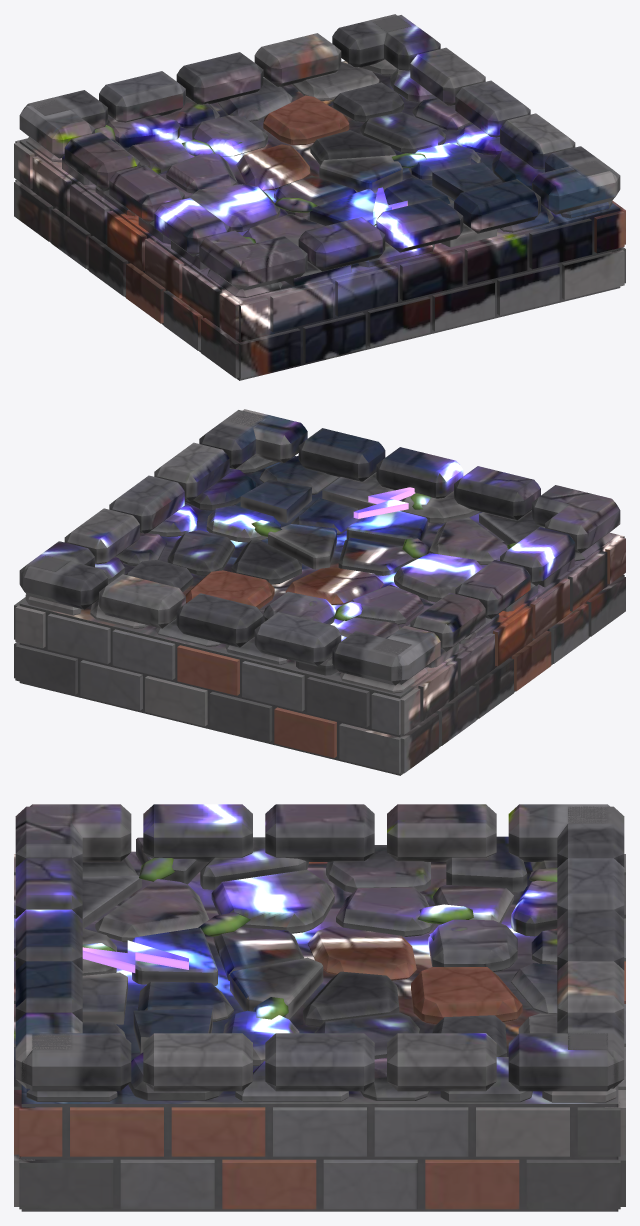
The model's file is thunder_plate.glb.
The picture shows the model from 3 angles, top to bottom: view 1: azimuth 30°, elevation 25°; view 2: azimuth 150°, elevation 25°; view 3: azimuth 270°, elevation 25°; orthographic projection. The views are drawn at different scales.
Parts seen in each view (by area): view 1: thunder_plate; view 2: thunder_plate; view 3: thunder_plate.
Boxes of the visible parts, bbox=[...] form: thunder_plate: bbox=[14, 14, 625, 380]; thunder_plate: bbox=[14, 409, 625, 775]; thunder_plate: bbox=[14, 804, 625, 1211].
Size of the model in its own units: 2.01 by 0.57 by 2.01.
1 material, 1 textured.
